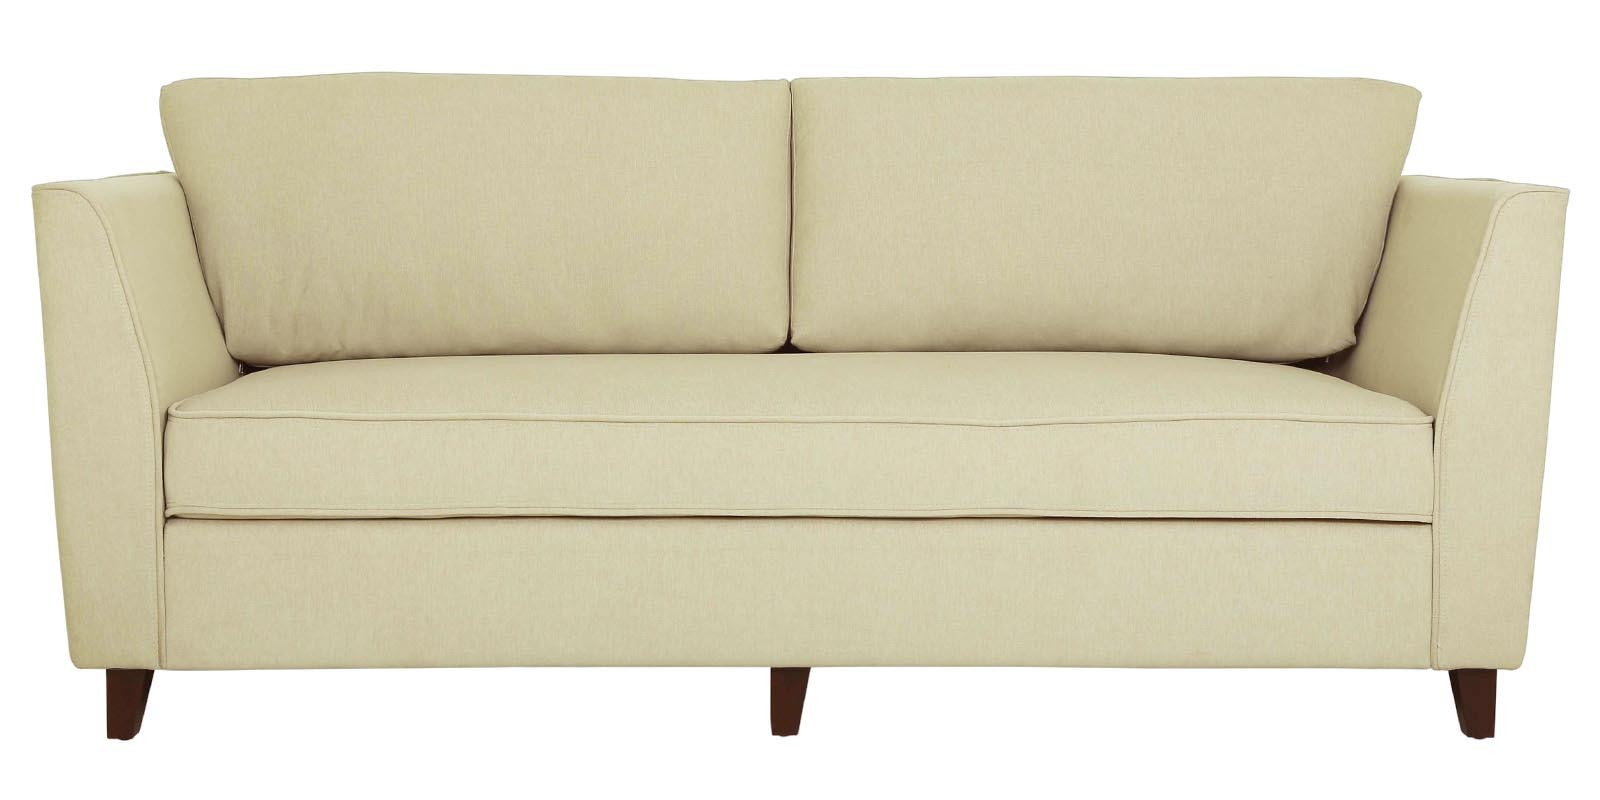Miranda Three Seater Sofa in Beige Colour by CasaCraft: (28, 70, 1572, 739)
